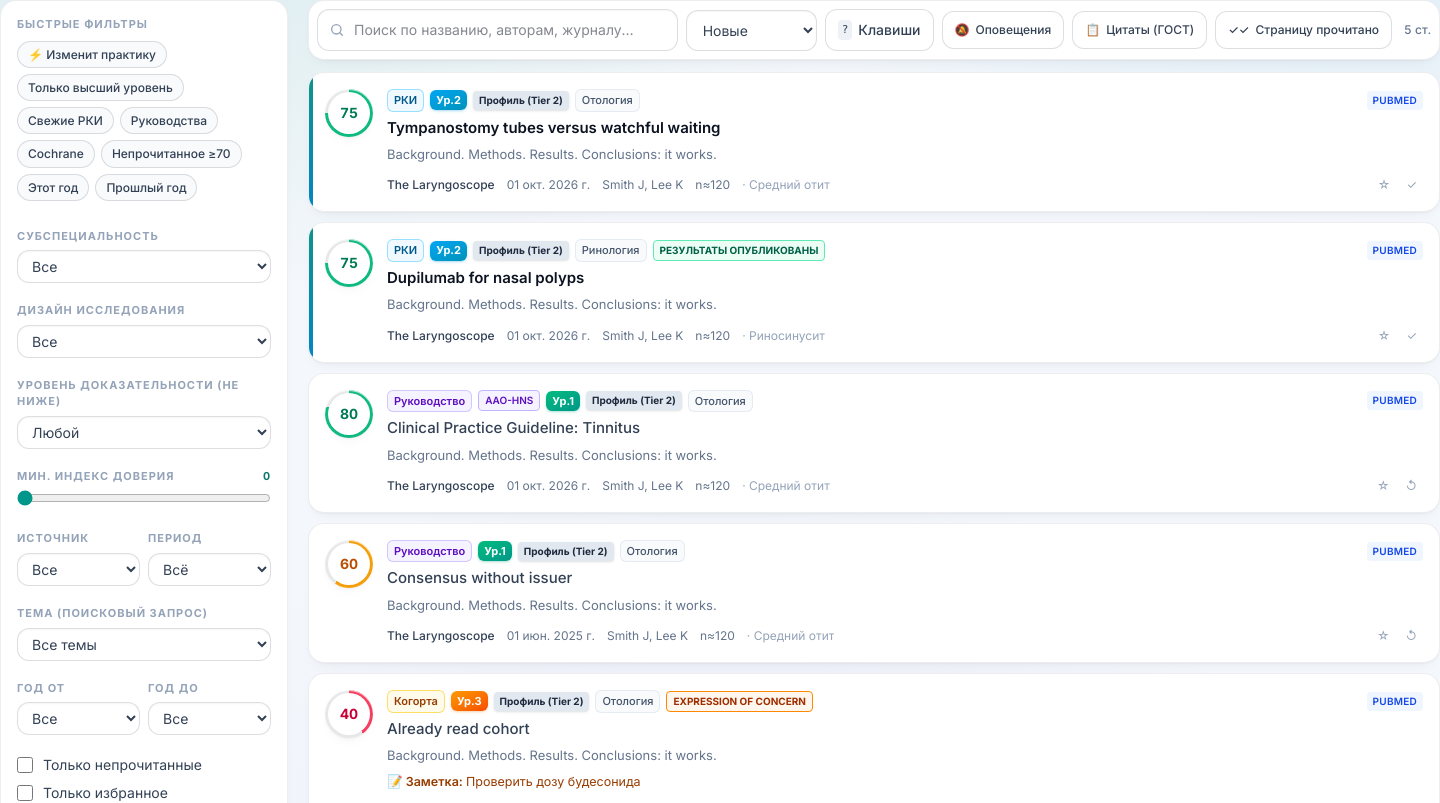
Test: <Feed /> › пользовательский пресет: сохраняется в localStorage, применяется и удаляется
Select "Ринология / аллергология" in the dropdown labelled "Субспециальность" at (144, 267), box [17,250,271,283]
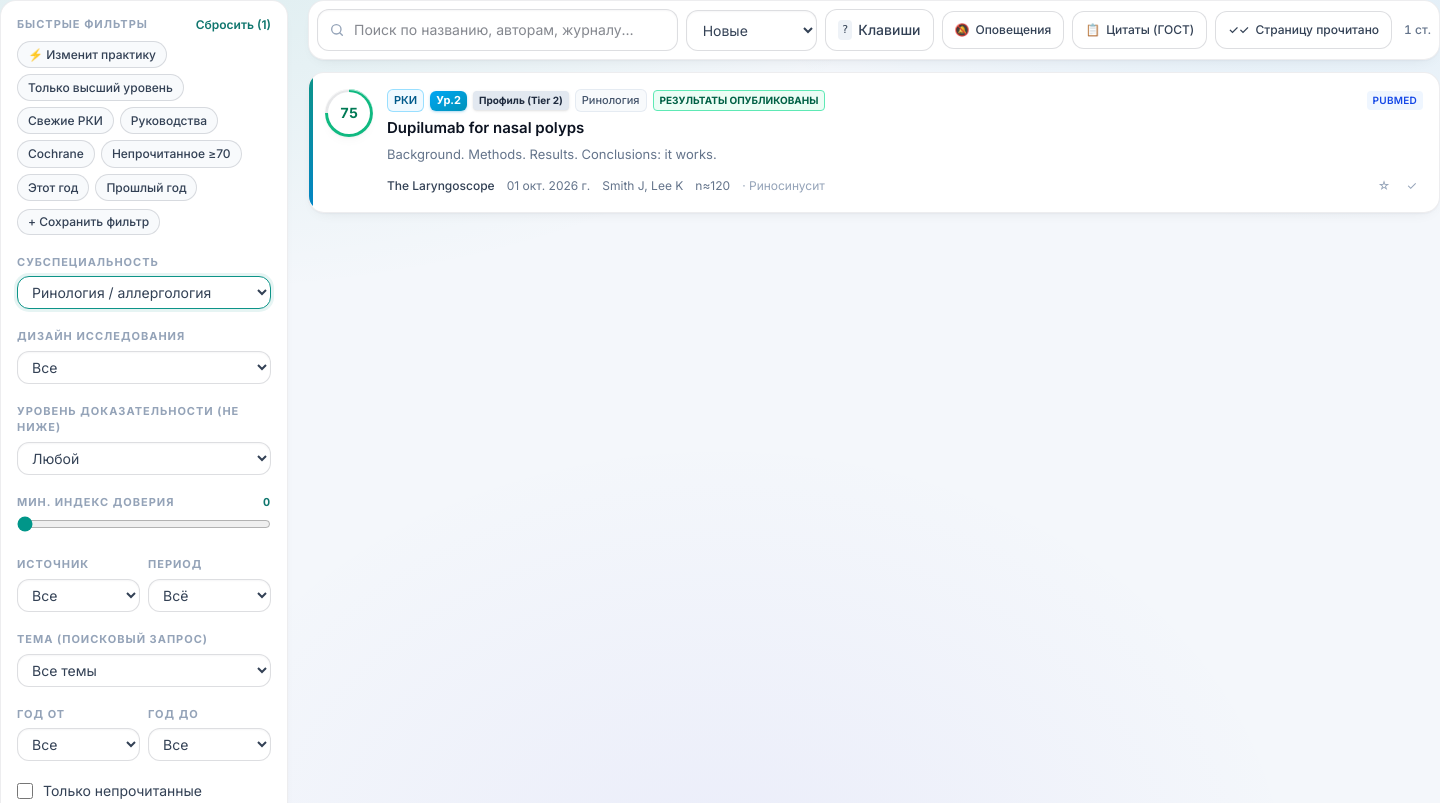
Click the button "+ Сохранить фильтр" at (89, 222), box [17,209,160,235]
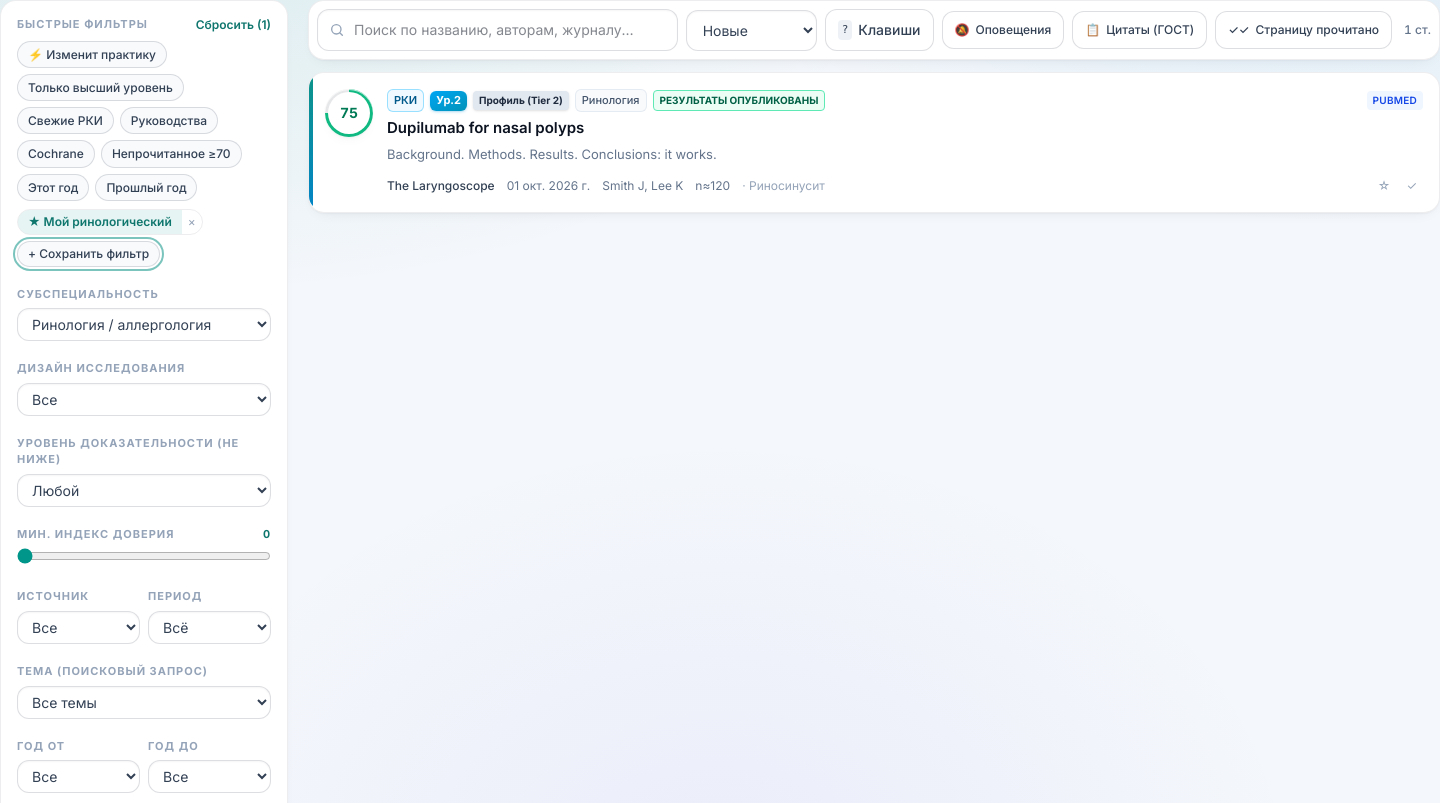
expect the button "★ Мой ринологический" is shown: met, box [18,210,182,234]
// сброс → применение пресета возвращает фильтр
Click the button "Сбросить (1)" at (233, 25), box [196,17,271,33]
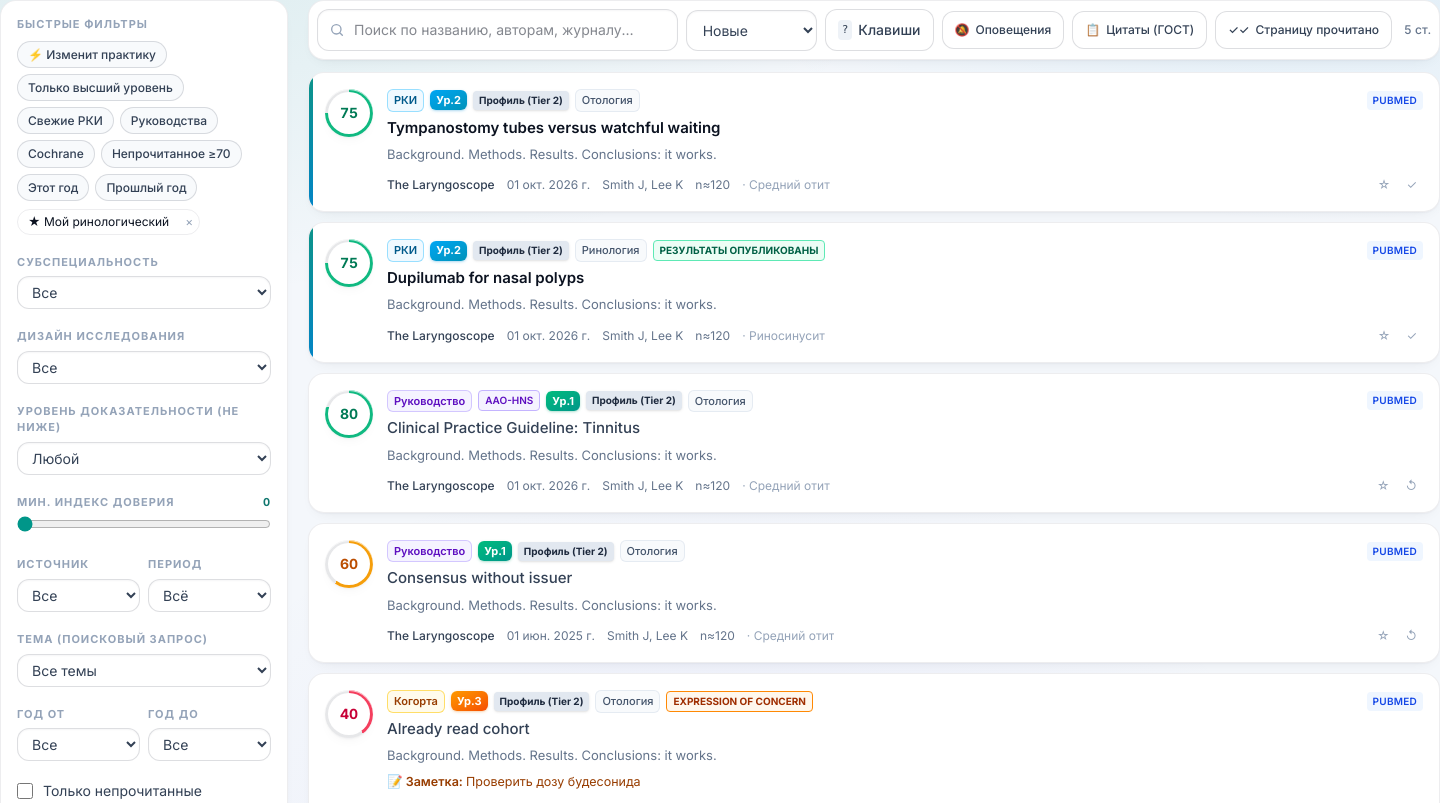
Click the button "★ Мой ринологический" at (99, 222), box [18,210,179,234]
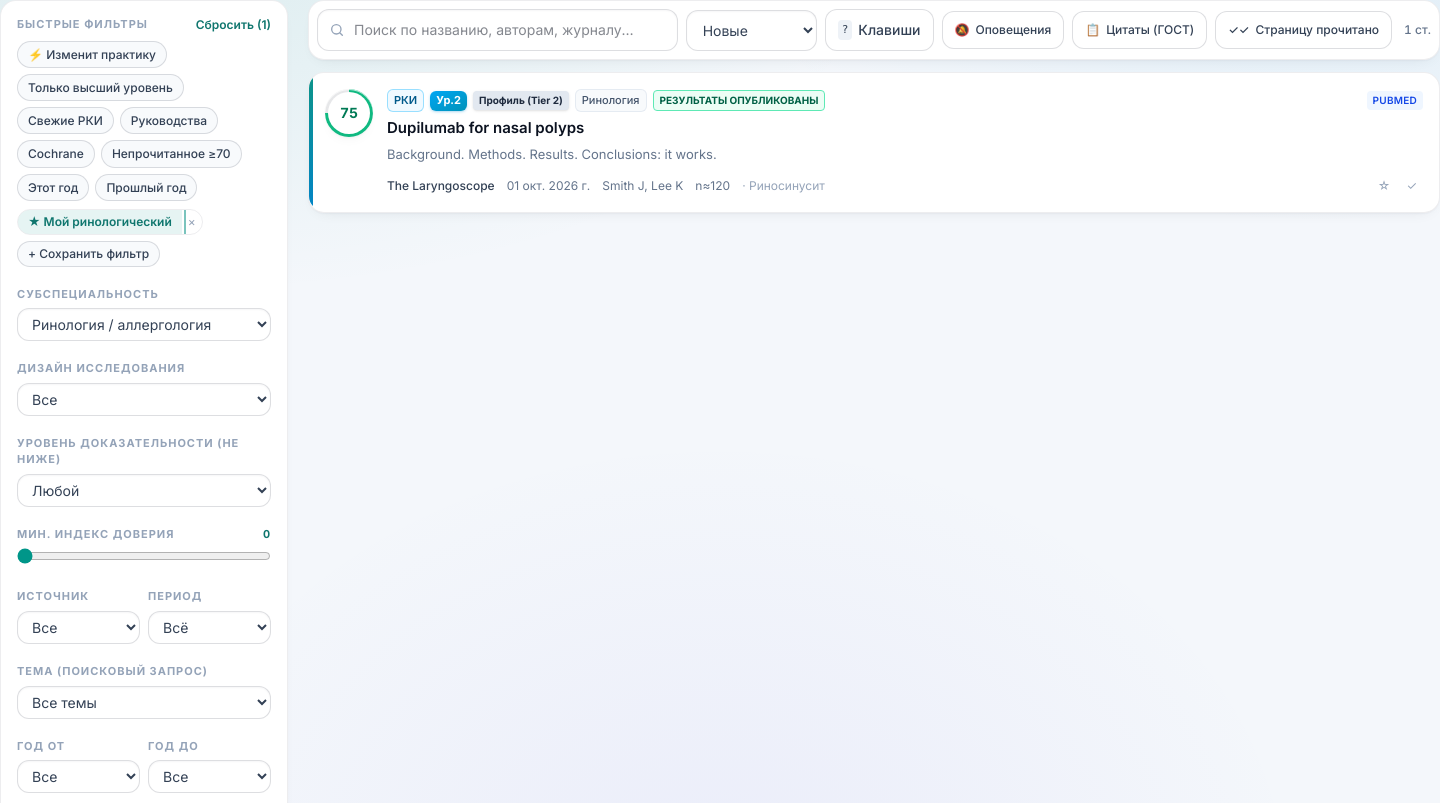
Click the button named "Удалить пресет Мой ринологический" at (192, 222), box [182,210,202,234]
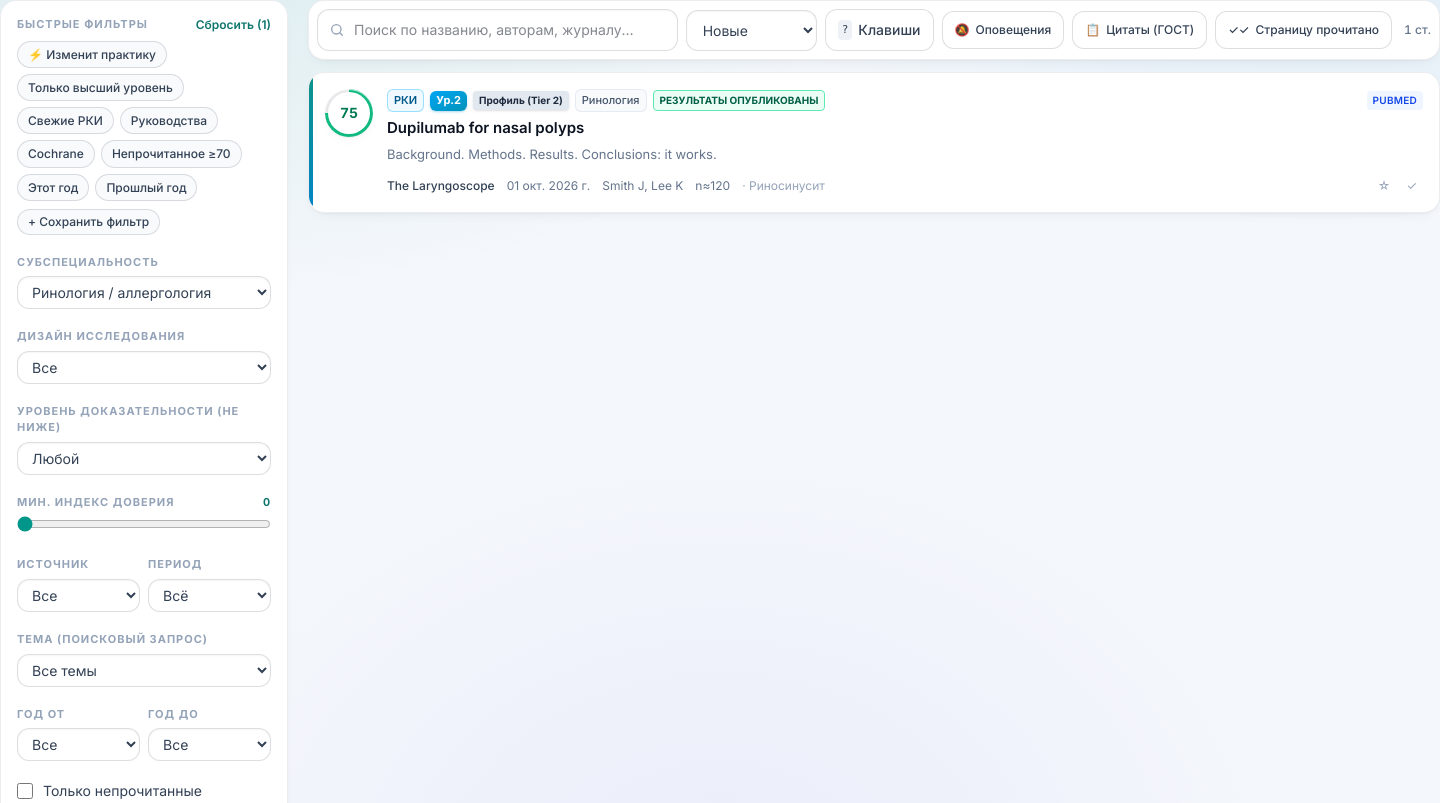
expect the button "★ Мой ринологический" is gone: met
